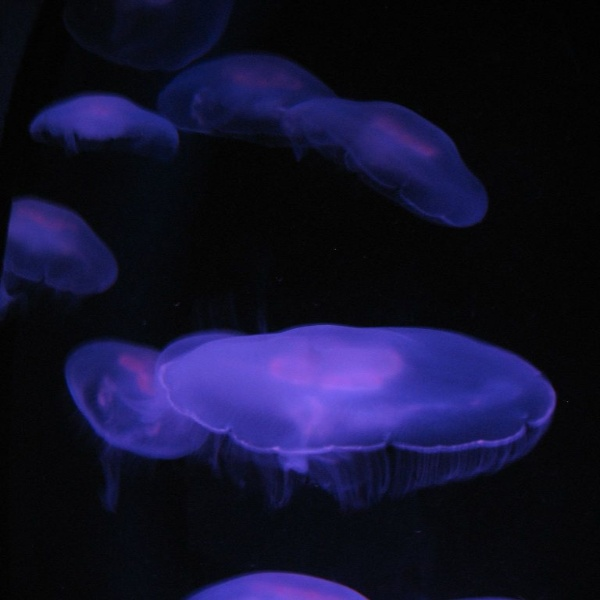Jellyfish: (155, 319, 554, 507), (274, 97, 497, 229), (62, 342, 214, 513), (152, 56, 334, 136), (0, 195, 123, 297), (31, 97, 179, 152), (188, 571, 362, 599)
